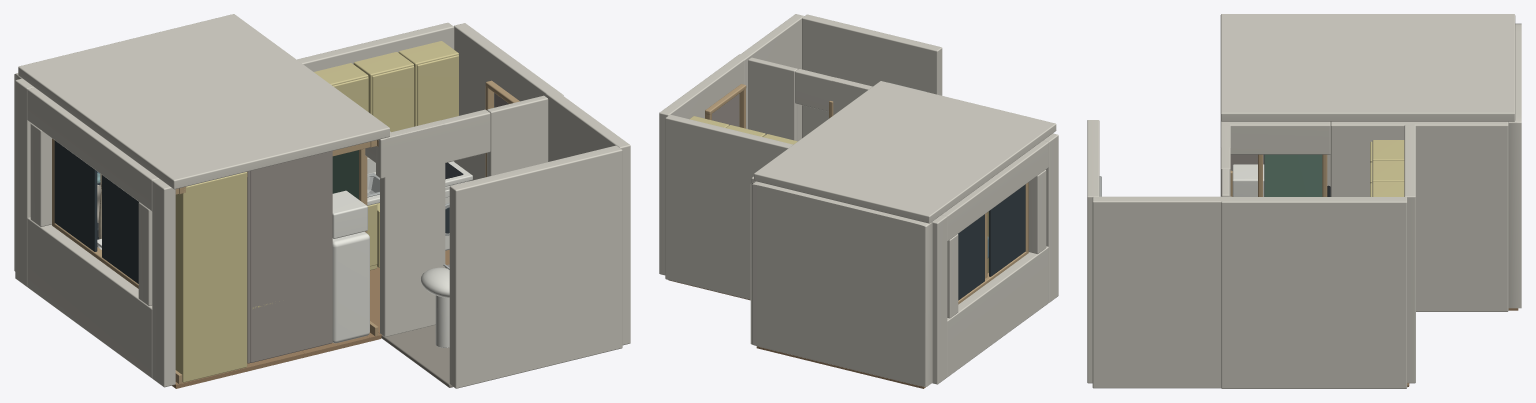
Rendered from Home_Reconstruction.fbx.
3 views of the same model, side by side, from view 1: azimuth 30°, elevation 25°; view 2: azimuth 150°, elevation 25°; view 3: azimuth 270°, elevation 25° (orthographic). The views are drawn at different scales.
Parts seen in each view (by area): view 1: Ceiling removable for plan, Bathroom west wall, Desk niche back, Wardrobe carcass, Bathroom doorway return wall, Window sill wall, Entry back wall, Bathroom doorway lintel, Bathroom rear wall, Window lintel, West wall end return, Bathroom divider south section (+21 smaller); view 2: Plain wall behind headboard, Ceiling removable for plan, Kitchen east wall, Bathroom west wall, Window sill wall, Bathroom divider south section, Entry back wall, Window lintel, West wall end return.001, Dark frosted window pane, Bathroom rear wall, West wall end return (+7 smaller); view 3: Entry back wall, Ceiling removable for plan, Bathroom rear wall, East living wall, Entry opening header, Plain wall behind headboard, Kitchen east wall, Frosted green partition glass, Bathroom west wall, Microwave body, Overhead yellow cabinet.002, Overhead yellow cabinet.001 (+2 smaller).
Boxes of the visible parts, x1,y1,x2,y2 form: Ceiling removable for plan: (18,14,389,189); Bathroom west wall: (449,145,622,388); Desk niche back: (250,151,331,362); Wardrobe carcass: (175,172,247,382); Bathroom doorway return wall: (380,120,445,336); Window sill wall: (27,217,152,377); Entry back wall: (454,23,563,181); Bathroom doorway lintel: (376,109,490,178); Bathroom rear wall: (545,92,630,345); Window lintel: (27,87,158,210); West wall end return: (152,178,175,387); Bathroom divider south section: (487,95,548,176); Plain wall behind headboard: (750,181,932,386); Ceiling removable for plan: (754,81,1056,223); Kitchen east wall: (665,114,792,299); Bathroom west wall: (802,14,942,137); Window sill wall: (947,246,1048,376); Bathroom divider south section: (748,57,797,141); Entry back wall: (659,54,746,275); Window lintel: (942,140,1048,241); West wall end return.001: (931,215,947,384); Dark frosted window pane: (989,184,1025,276); Bathroom rear wall: (737,14,803,140); West wall end return: (1043,133,1058,302); Entry back wall: (1221,197,1407,388); Ceiling removable for plan: (1220,14,1515,121); Bathroom rear wall: (1092,196,1231,388); East living wall: (1330,121,1508,311); Entry opening header: (1228,121,1330,154); Plain wall behind headboard: (1508,23,1521,308); Kitchen east wall: (1404,124,1415,383); Frosted green partition glass: (1264,154,1322,196); Bathroom west wall: (1087,120,1099,383); Microwave body: (1232,164,1264,196); Overhead yellow cabinet.002: (1372,140,1404,160); Overhead yellow cabinet.001: (1372,161,1404,181).
Bounding box in the file's own units: 522 × 267 × 526.
